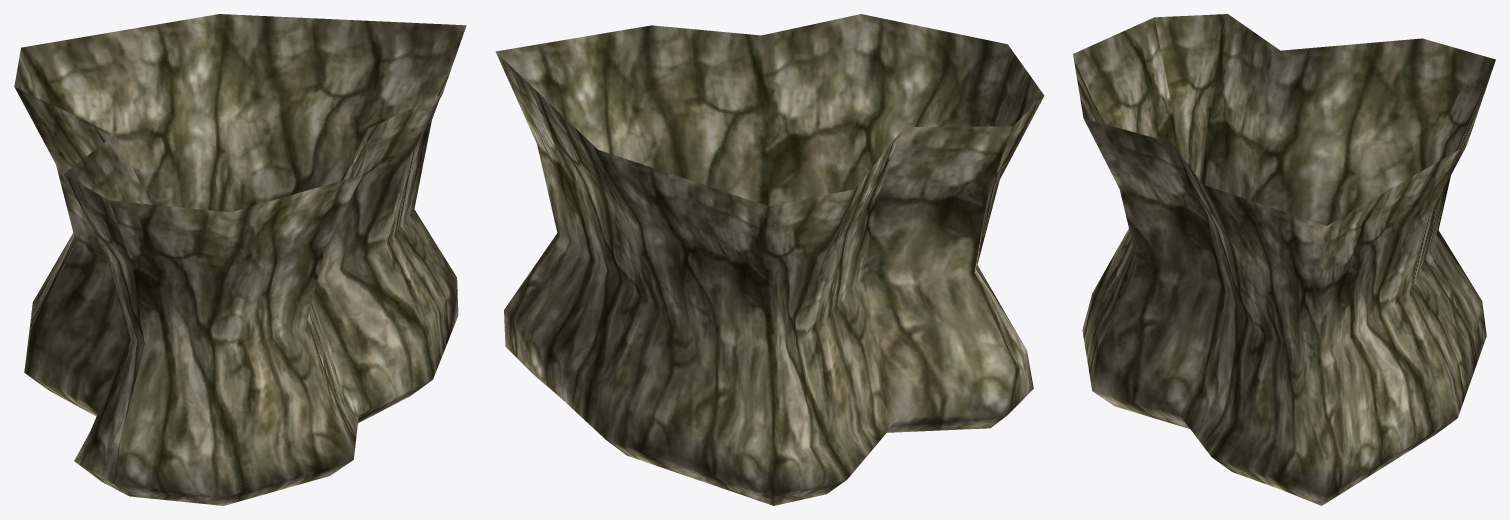
Rendered from CB_NEWPLAYSURFACE_CB_PLAYSURFACE51.fbx.
The picture shows the model from 3 angles, left to right: view 1: azimuth 30°, elevation 25°; view 2: azimuth 150°, elevation 25°; view 3: azimuth 270°, elevation 25°; orthographic projection. The views are drawn at different scales.
Parts seen in each view (by area): view 1: CB_NEWPLAYSURFACE_CB_PLAYSURFACE51; view 2: CB_NEWPLAYSURFACE_CB_PLAYSURFACE51; view 3: CB_NEWPLAYSURFACE_CB_PLAYSURFACE51.
Part boxes in pixels (x1,y1,x2,y2): CB_NEWPLAYSURFACE_CB_PLAYSURFACE51: (14, 14, 466, 505); CB_NEWPLAYSURFACE_CB_PLAYSURFACE51: (495, 14, 1044, 505); CB_NEWPLAYSURFACE_CB_PLAYSURFACE51: (1073, 14, 1495, 505).
Bounding box in the file's own units: 71218 × 46271 × 60013.
Materials: 2 (2 with a texture image).
